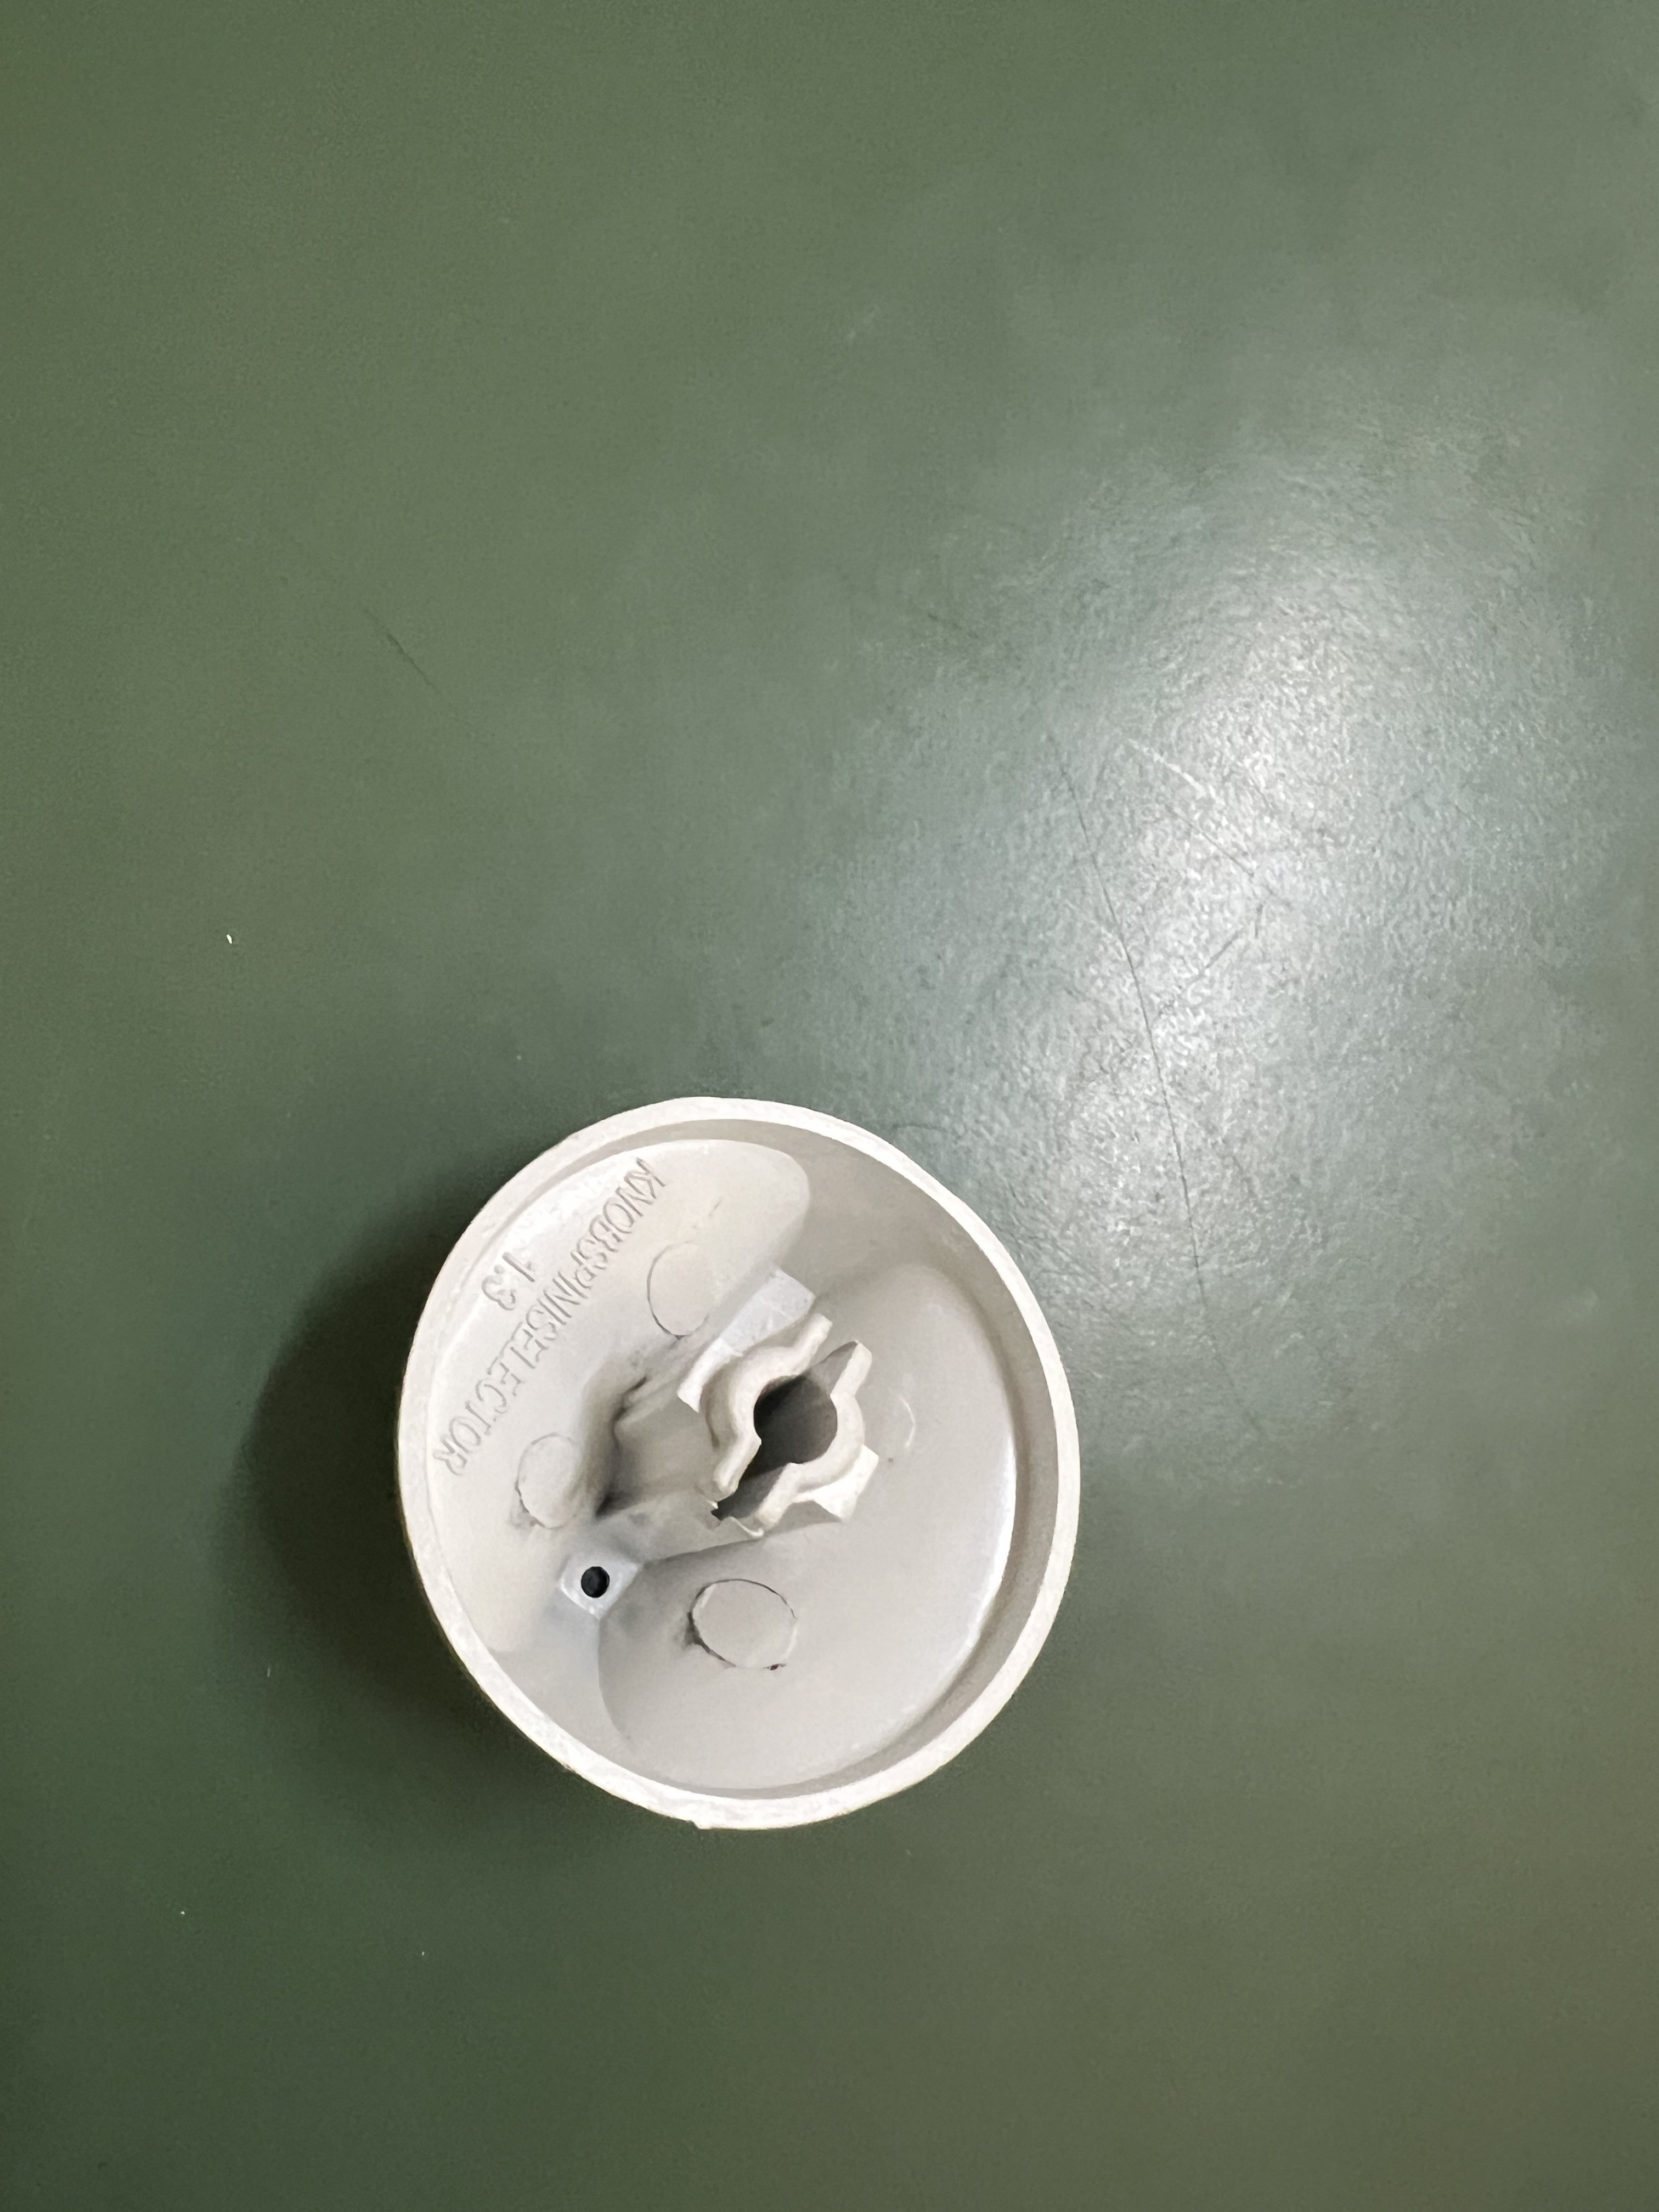regulator: (383, 1082, 1114, 1855)
